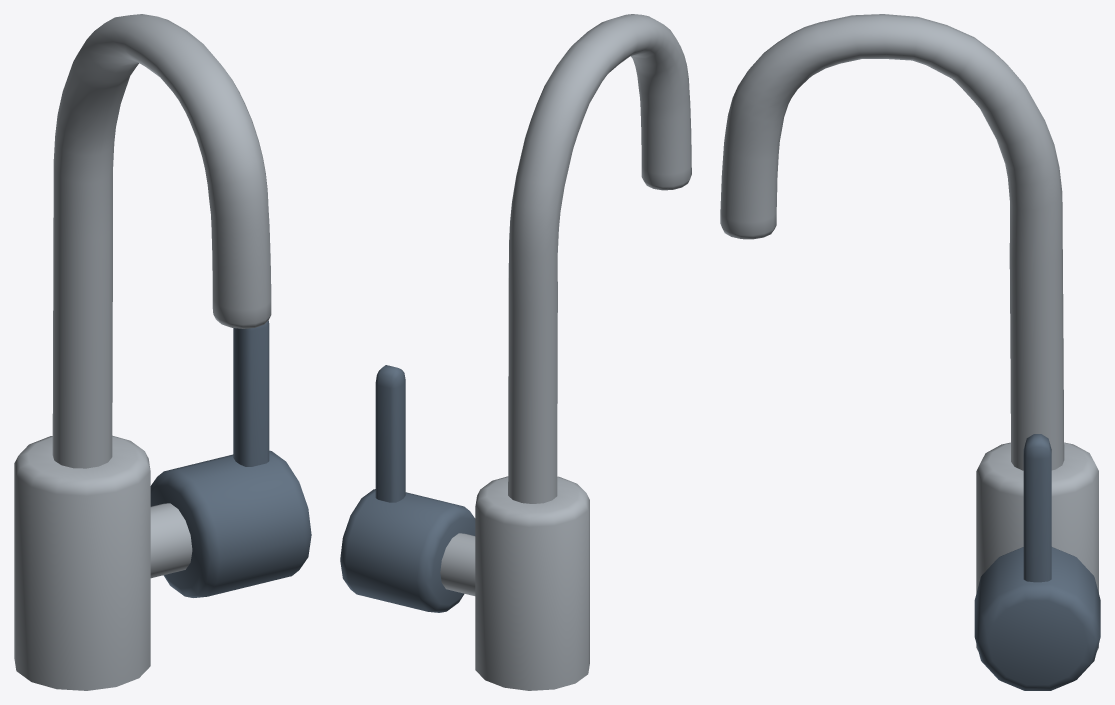
Rendered from Kitchen-Tap-1.fbx.
The picture shows the model from 3 angles, left to right: view 1: azimuth 30°, elevation 25°; view 2: azimuth 150°, elevation 25°; view 3: azimuth 270°, elevation 25°; orthographic projection. The views are drawn at different scales.
Parts seen in each view (by area): view 1: Kitchen-Tap-1; view 2: Kitchen-Tap-1; view 3: Kitchen-Tap-1.
Boxes of the visible parts, x1,y1,x2,y2 form: Kitchen-Tap-1: (14, 14, 311, 690); Kitchen-Tap-1: (340, 14, 691, 690); Kitchen-Tap-1: (720, 14, 1100, 690).
Size of the model in its own units: 0.1362 by 0.35 by 0.1913.
